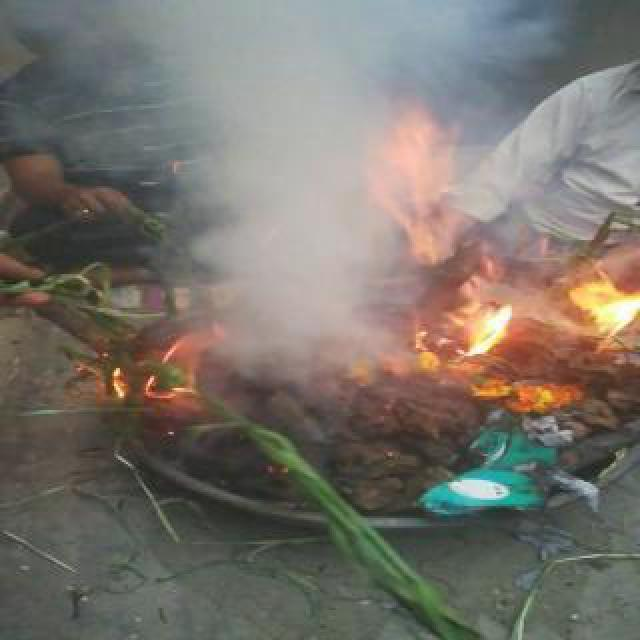Fire: (372, 110, 460, 270), (456, 258, 520, 366), (564, 270, 638, 354), (460, 366, 578, 418), (396, 338, 458, 386)
Smoke: (104, 0, 405, 415)
